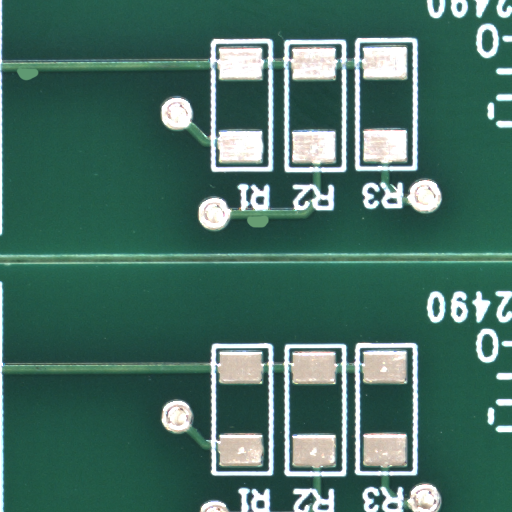Spur: (27, 74, 52, 87), (257, 222, 282, 235)
